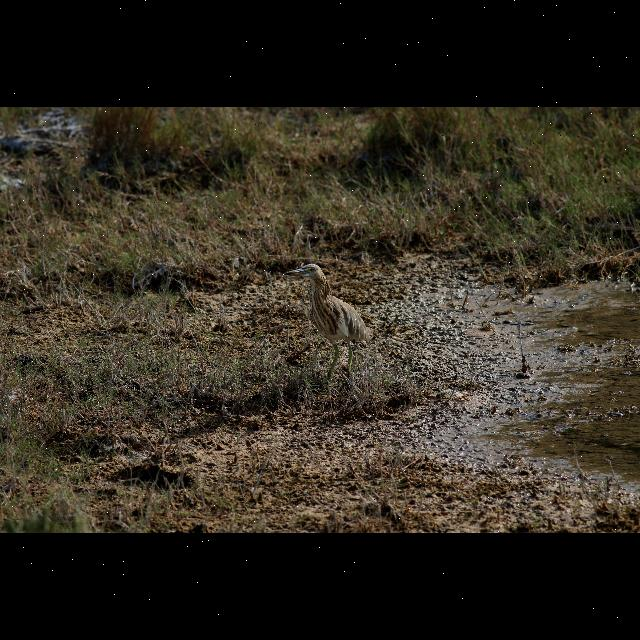heron: (283, 263, 372, 383)
